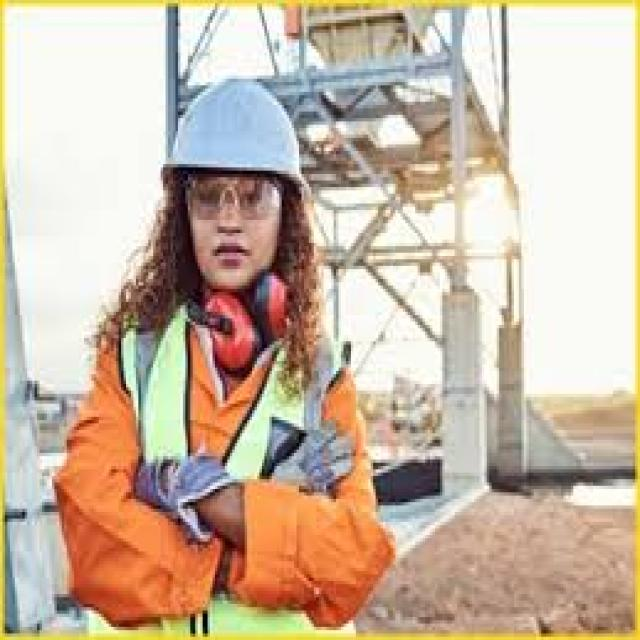gloves: (128, 437, 251, 558)
goggles: (178, 180, 291, 232)
helmet: (144, 77, 323, 176)
person: (32, 75, 405, 640)
